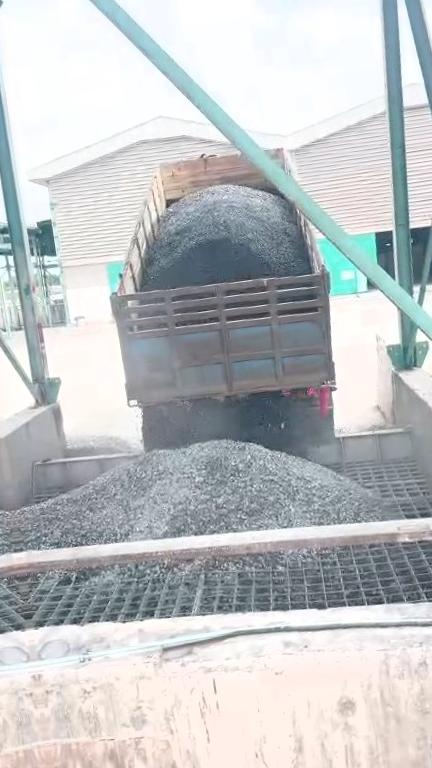gravel: (15, 440, 389, 548), (142, 184, 310, 290), (141, 392, 333, 457), (56, 547, 332, 584), (67, 435, 140, 457)
